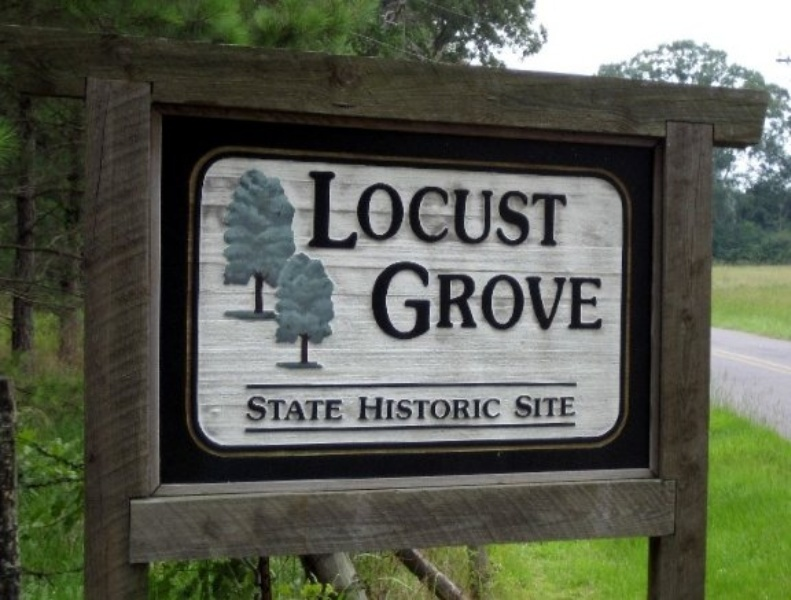text: (305, 168, 320, 253), (321, 168, 336, 253), (337, 168, 352, 253), (353, 168, 368, 253), (369, 168, 384, 253), (385, 168, 400, 253), (401, 168, 416, 253), (417, 168, 432, 253), (433, 168, 448, 253), (449, 168, 464, 253), (465, 168, 480, 253), (481, 168, 496, 253), (497, 168, 512, 253), (513, 168, 528, 253), (529, 168, 544, 253), (545, 168, 560, 253), (385, 257, 400, 342), (401, 257, 416, 342), (417, 257, 432, 342), (433, 257, 448, 342), (449, 257, 464, 342), (465, 257, 480, 342), (481, 257, 496, 342), (497, 257, 512, 342), (513, 257, 528, 342), (529, 257, 544, 342), (545, 257, 560, 342), (561, 257, 576, 342), (577, 257, 592, 342), (370, 257, 384, 342), (593, 257, 602, 342), (561, 168, 569, 253), (257, 395, 272, 422), (273, 395, 288, 422), (289, 395, 304, 422), (305, 395, 320, 422), (321, 395, 336, 422), (369, 396, 384, 421), (385, 396, 400, 421), (401, 396, 416, 421), (417, 396, 432, 421), (433, 396, 448, 421), (449, 396, 464, 421), (465, 396, 480, 421), (481, 396, 496, 421), (513, 395, 528, 419), (529, 395, 544, 419), (545, 395, 560, 419), (561, 395, 576, 419), (246, 395, 256, 422), (358, 396, 368, 421), (337, 395, 344, 422), (497, 396, 502, 421), (577, 395, 579, 419)
